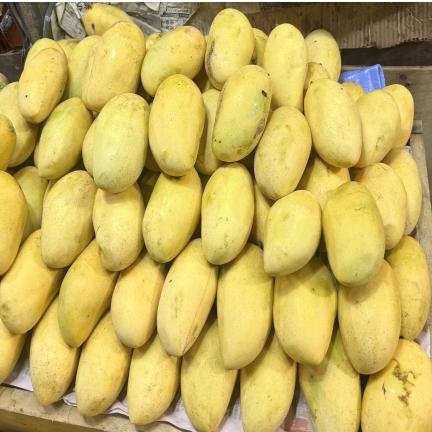mango: (322, 182, 385, 287), (212, 65, 271, 162), (149, 74, 205, 176), (93, 93, 150, 193), (201, 162, 254, 265), (254, 106, 311, 200), (304, 79, 362, 168), (263, 190, 322, 276), (17, 48, 67, 123)
occluded: (157, 238, 218, 357), (338, 260, 401, 374), (273, 256, 338, 365), (181, 308, 238, 432), (299, 318, 361, 432), (217, 243, 273, 369), (0, 229, 67, 334), (58, 239, 120, 347), (361, 339, 432, 432), (75, 311, 132, 417), (240, 326, 297, 432), (142, 168, 202, 263), (30, 296, 81, 406), (41, 170, 98, 268), (85, 21, 145, 111), (127, 330, 182, 425), (385, 235, 431, 340), (93, 182, 145, 271), (37, 97, 93, 179), (141, 26, 206, 96), (355, 163, 407, 250), (204, 9, 255, 90), (263, 23, 308, 111), (354, 90, 400, 169), (383, 149, 422, 235), (0, 82, 39, 167), (296, 154, 350, 210), (0, 171, 27, 275), (60, 35, 101, 102), (13, 166, 48, 243), (194, 88, 223, 175), (382, 84, 414, 149), (248, 178, 275, 249), (305, 29, 341, 81), (0, 319, 28, 383), (84, 3, 133, 36), (24, 38, 66, 68), (81, 41, 98, 109), (82, 118, 97, 176), (249, 28, 268, 67), (57, 39, 80, 62), (341, 81, 365, 102), (146, 32, 165, 54), (0, 72, 9, 91)
